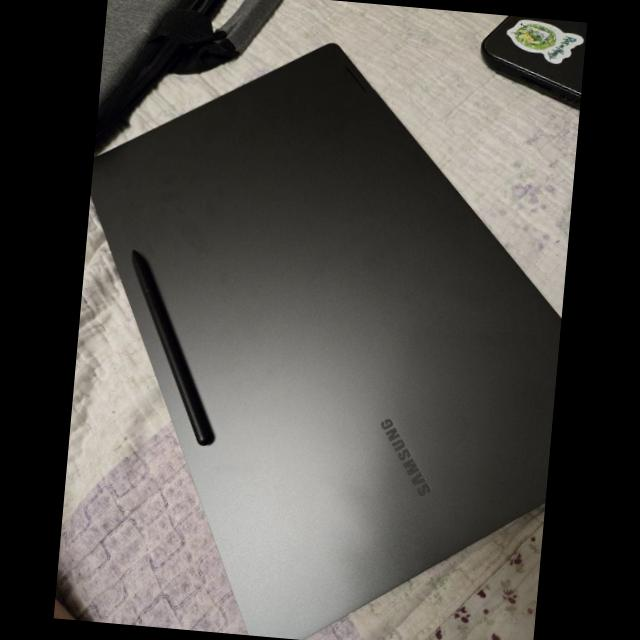laptop: (64, 15, 583, 640)
